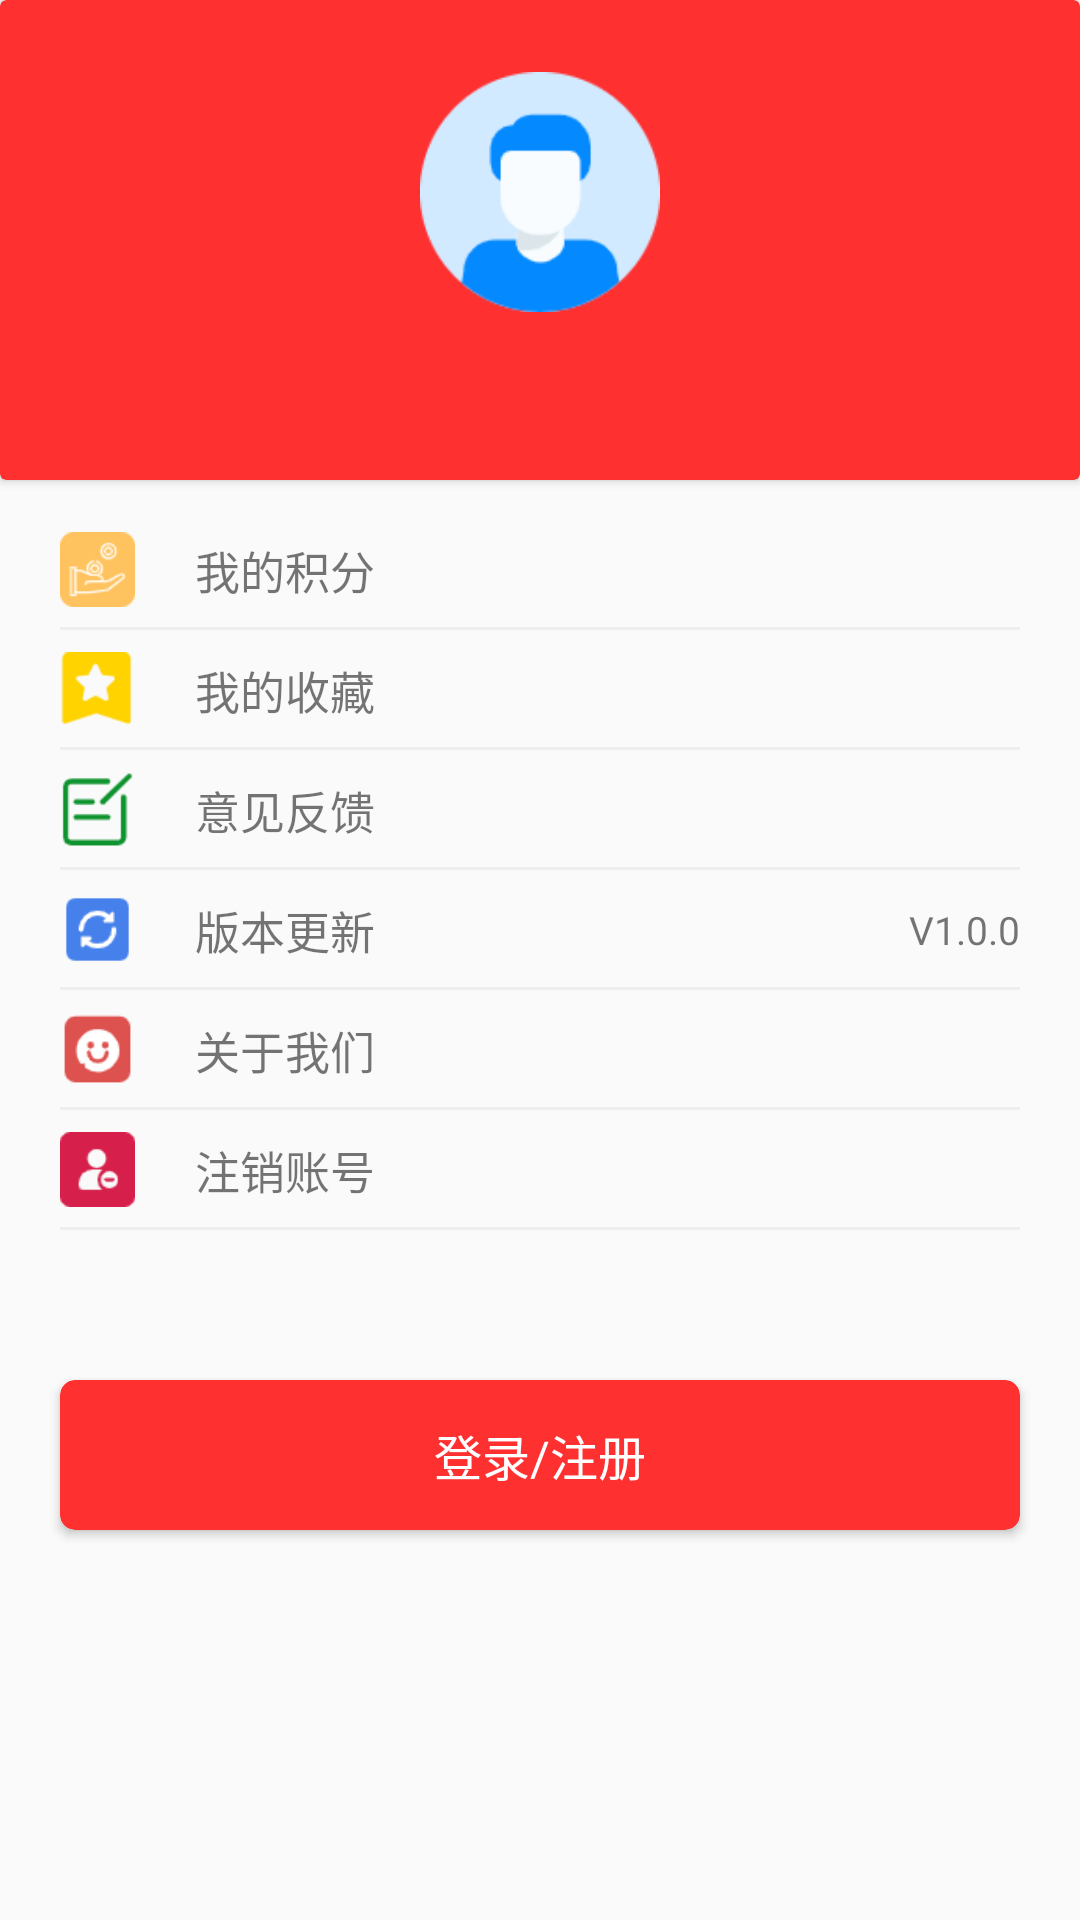

Where icons sit on this 1080×1920 app screen, as (x1, y1, x2, y2):
about: (64, 1015, 131, 1083)
collect: (61, 652, 132, 724)
head portrait: (420, 72, 660, 312)
jifen: (60, 532, 135, 607)
suggest: (63, 773, 132, 846)
update: (66, 898, 129, 961)
